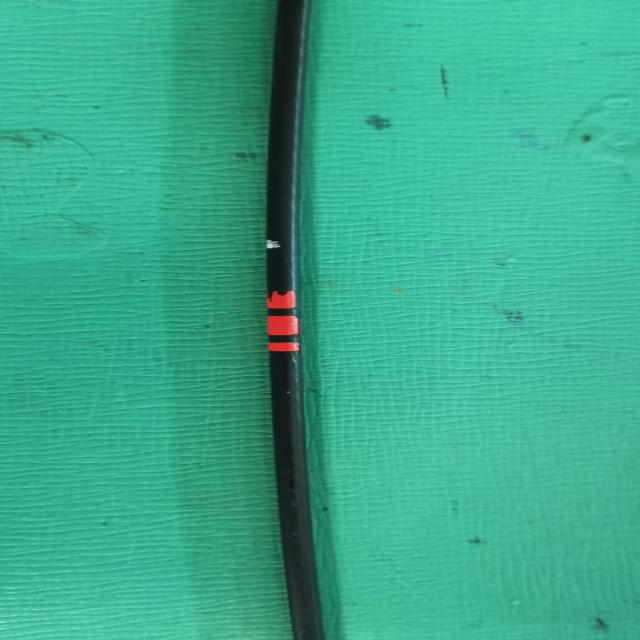red: (265, 290, 304, 354)
